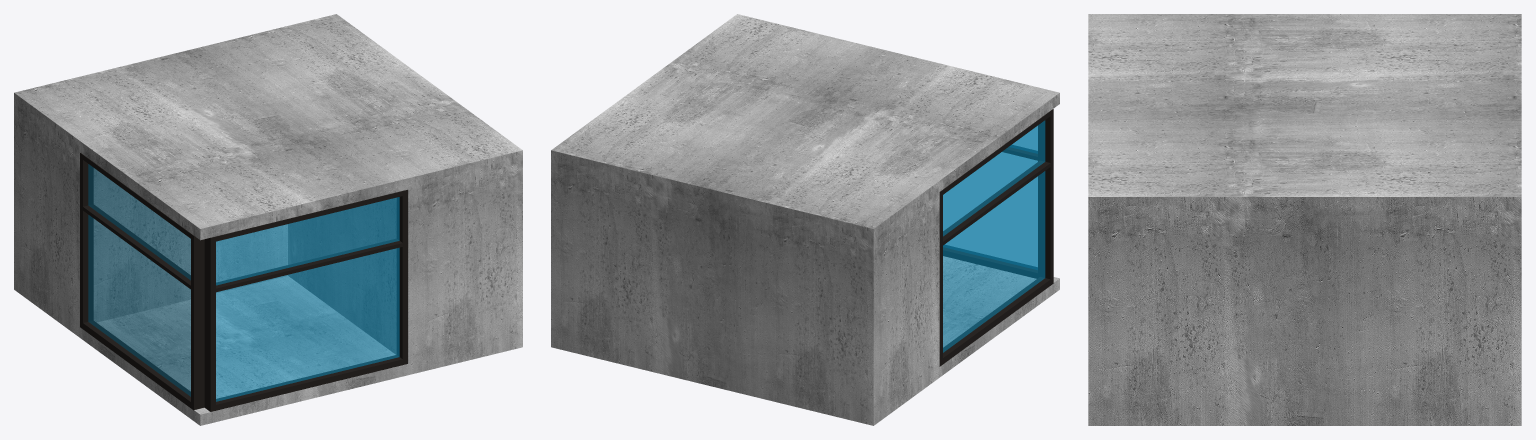
Rendered from bloqueConVentanas.DAE.
3 views of the same model, side by side, from view 1: azimuth 30°, elevation 25°; view 2: azimuth 150°, elevation 25°; view 3: azimuth 270°, elevation 25° (orthographic). The views are drawn at different scales.
Visible parts, largest first — view 1: bloque6x007; view 2: bloque6x007; view 3: bloque6x007.
Part boxes in pixels (x1,y1,x2,y2): bloque6x007: (14, 14, 522, 425); bloque6x007: (551, 14, 1059, 425); bloque6x007: (1088, 14, 1521, 425).
Bounding box in the file's own units: 6 × 3.5 × 6.
